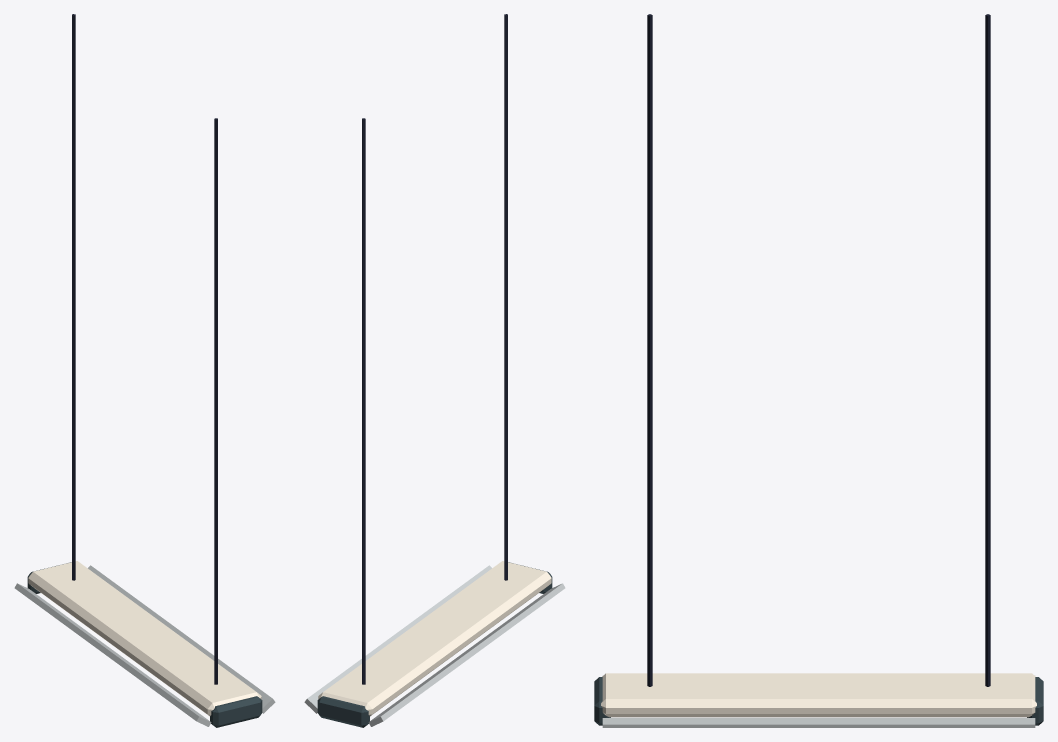
Rendered from sm_env_depot_tube_fixture.glb.
3 renders of one model, left to right at view 1: azimuth 30°, elevation 25°; view 2: azimuth 150°, elevation 25°; view 3: azimuth 270°, elevation 25°, orthographic. The views are drawn at different scales.
Parts seen in each view (by area): view 1: Trough, Cable.001, Cable, Reflector, Reflector.001, EndCap.001; view 2: Trough, Cable, Cable.001, Reflector, Reflector.001, EndCap; view 3: Trough, Reflector.001, Cable, Cable.001.
Boxes of the visible parts, <box> form: Trough: <box>28,561,261,716</box>; Cable.001: <box>214,118,217,684</box>; Cable: <box>72,14,75,580</box>; Reflector: <box>14,583,211,726</box>; Reflector.001: <box>88,565,275,713</box>; EndCap.001: <box>210,696,262,727</box>; Trough: <box>318,561,551,716</box>; Cable: <box>362,118,365,684</box>; Cable.001: <box>504,14,507,580</box>; Reflector: <box>368,583,565,726</box>; Reflector.001: <box>304,565,491,713</box>; EndCap: <box>317,696,369,727</box>; Trough: <box>601,673,1036,717</box>; Reflector.001: <box>602,718,1035,727</box>; Cable: <box>985,14,990,686</box>; Cable.001: <box>647,14,652,686</box>.
Bounding box in the file's own units: 0.3208 × 2.28 × 1.33.
